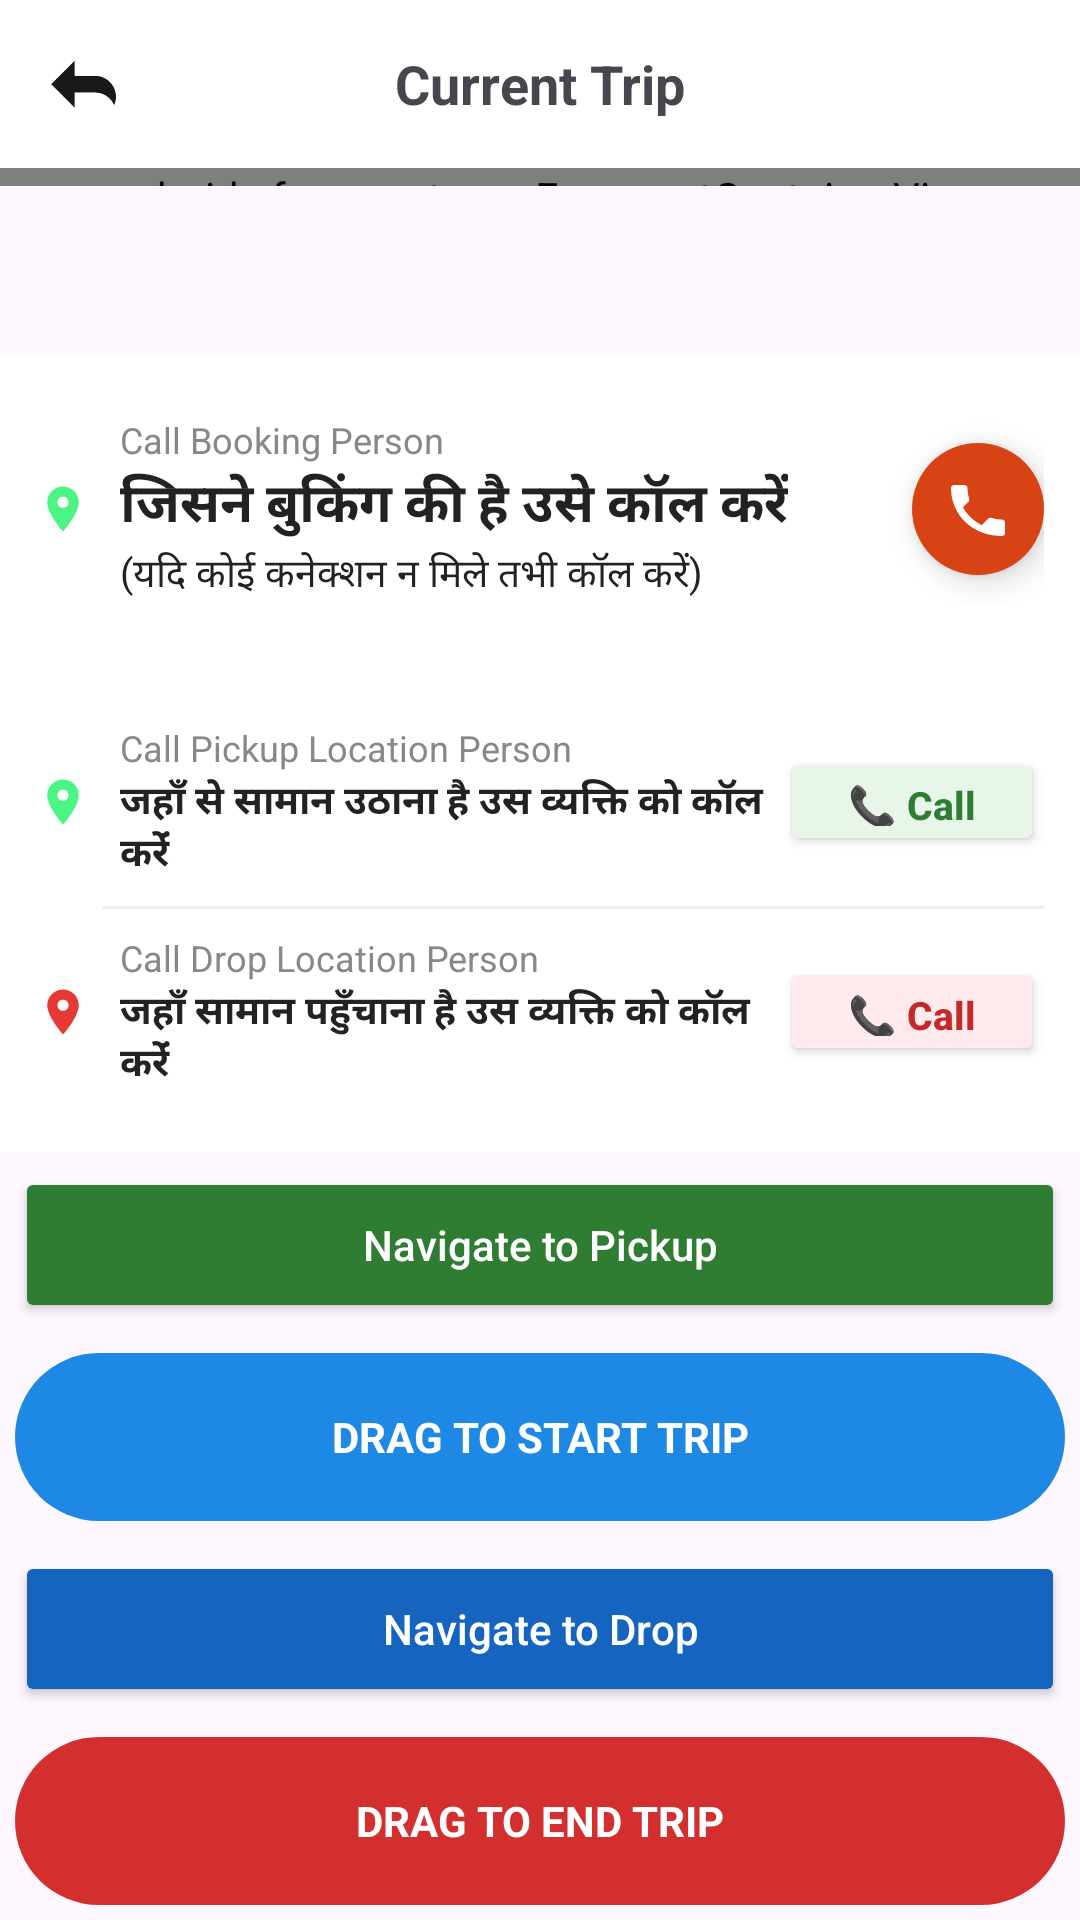

Named icons in this screenshot (1080w x 1920h) and their centers, point (x, y):
Back: point (83, 84)
Call User: point (978, 509)
drop marker: point (63, 1011)
pickup marker: point (63, 508), point (63, 801)
